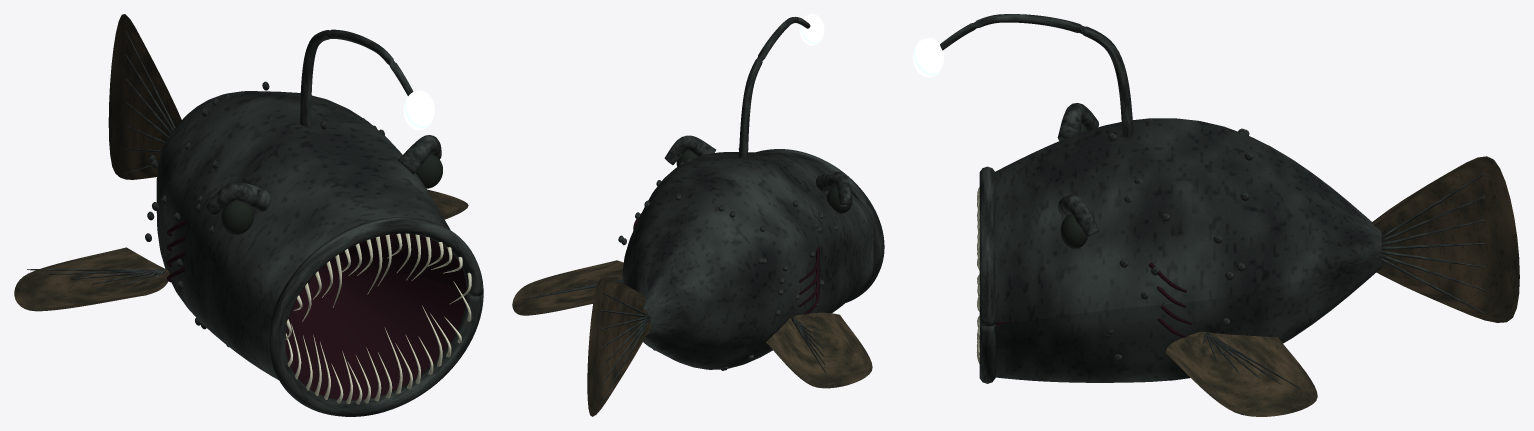
Rendered from angler.glb.
3 views of the same model, side by side, from view 1: azimuth 30°, elevation 25°; view 2: azimuth 150°, elevation 25°; view 3: azimuth 270°, elevation 25° (orthographic). The views are drawn at different scales.
Parts seen in each view (by area): view 1: angler_anatomy, CaudalFin, PectoralFin_-1, PectoralFin_1; view 2: angler_anatomy, CaudalFin, PectoralFin_-1, PectoralFin_1; view 3: angler_anatomy, CaudalFin, PectoralFin_1.
Part boxes in pixels (x1=…): angler_anatomy: x1=145, y1=29, x2=483, y2=416; CaudalFin: x1=108, y1=14, x2=181, y2=179; PectoralFin_-1: x1=14, y1=247, x2=169, y2=311; PectoralFin_1: x1=427, y1=189, x2=468, y2=219; angler_anatomy: x1=618, y1=14, x2=884, y2=370; CaudalFin: x1=587, y1=277, x2=650, y2=416; PectoralFin_-1: x1=766, y1=312, x2=872, y2=388; PectoralFin_1: x1=512, y1=260, x2=623, y2=315; angler_anatomy: x1=913, y1=14, x2=1381, y2=383; CaudalFin: x1=1359, y1=156, x2=1519, y2=322; PectoralFin_1: x1=1165, y1=331, x2=1317, y2=416.
Size of the model in its own units: 3.91 by 3.07 by 4.69.
Materials: 6 (2 with a texture image).
